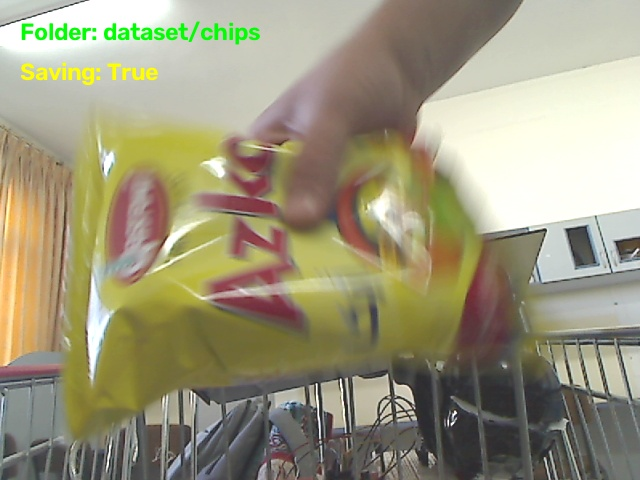chips: (64, 113, 512, 436)
